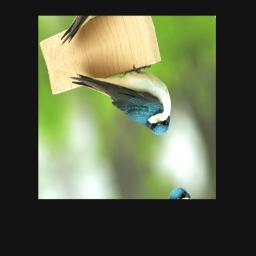Swallow: (68, 42, 179, 163)
